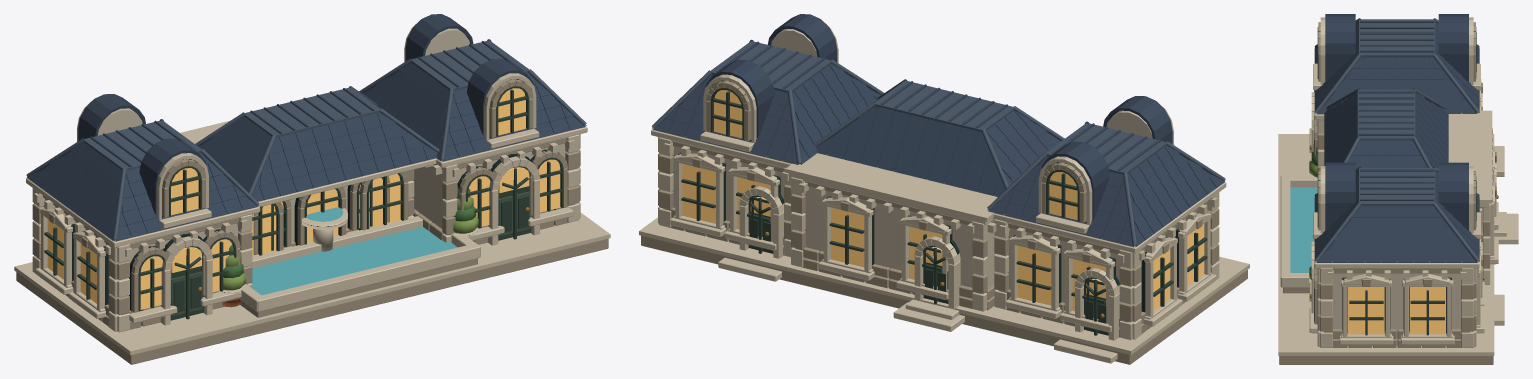
3 views of the same model, side by side, from view 1: azimuth 30°, elevation 25°; view 2: azimuth 150°, elevation 25°; view 3: azimuth 270°, elevation 25° (orthographic). The views are drawn at different scales.
Visible parts, largest first — view 1: classic_onsen_1_geometry; view 2: classic_onsen_1_geometry; view 3: classic_onsen_1_geometry.
Part boxes in pixels (<box>): classic_onsen_1_geometry: <box>14,14,610,364</box>; classic_onsen_1_geometry: <box>639,14,1249,364</box>; classic_onsen_1_geometry: <box>1278,14,1518,364</box>.
Size of the model in its own units: 1.9 by 0.6741 by 0.8849.
